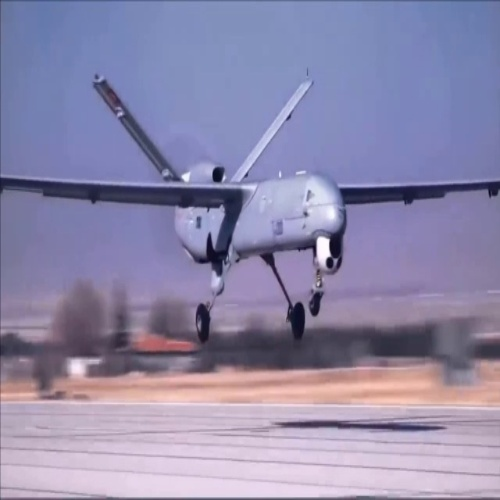uav: (1, 73, 495, 342)
